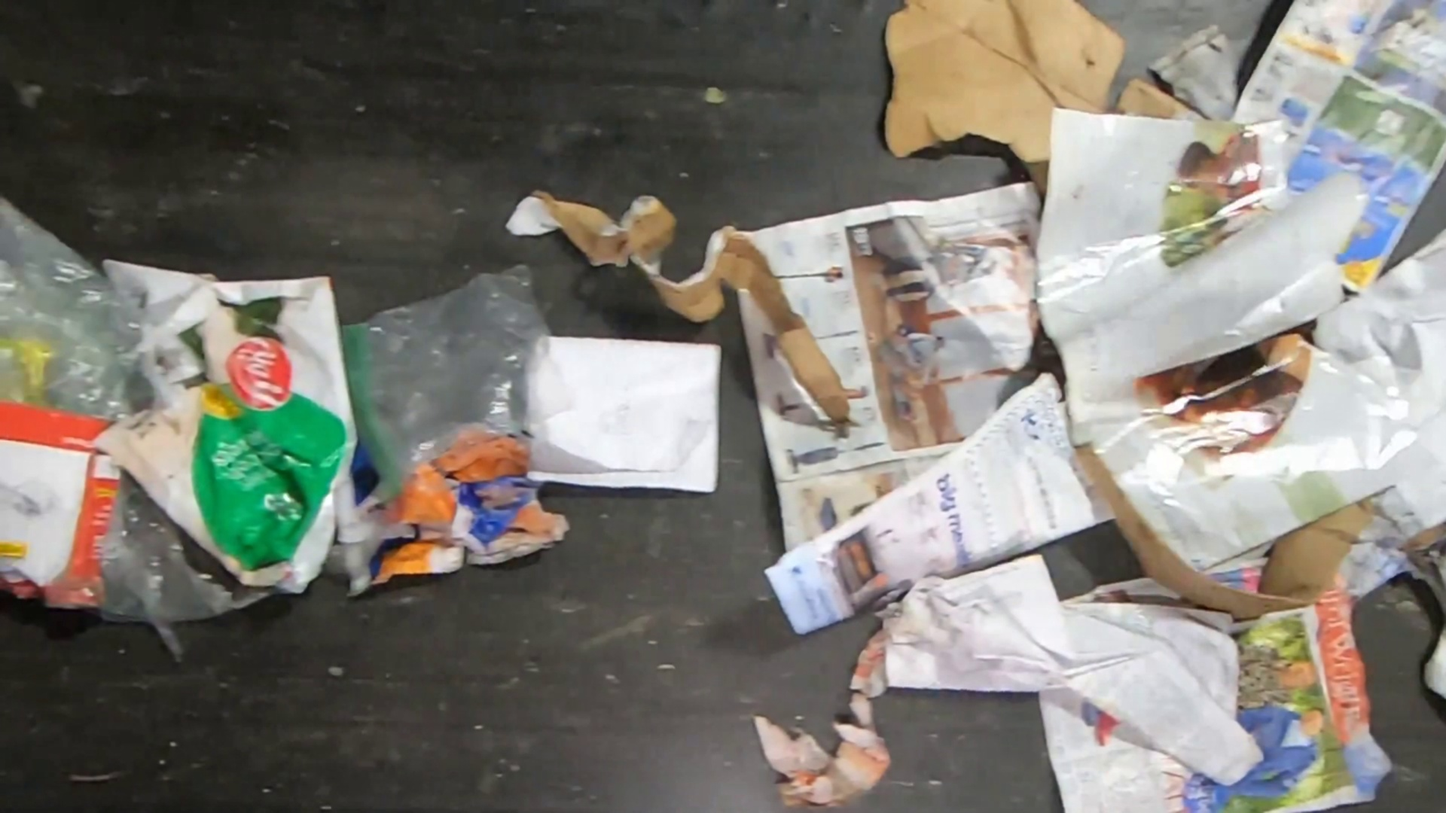cardboard: (501, 187, 856, 426), (881, 0, 1214, 210), (1074, 440, 1376, 622), (0, 401, 123, 610)
plastic: (94, 258, 358, 595), (340, 262, 577, 506), (0, 193, 157, 426), (86, 471, 275, 662)
